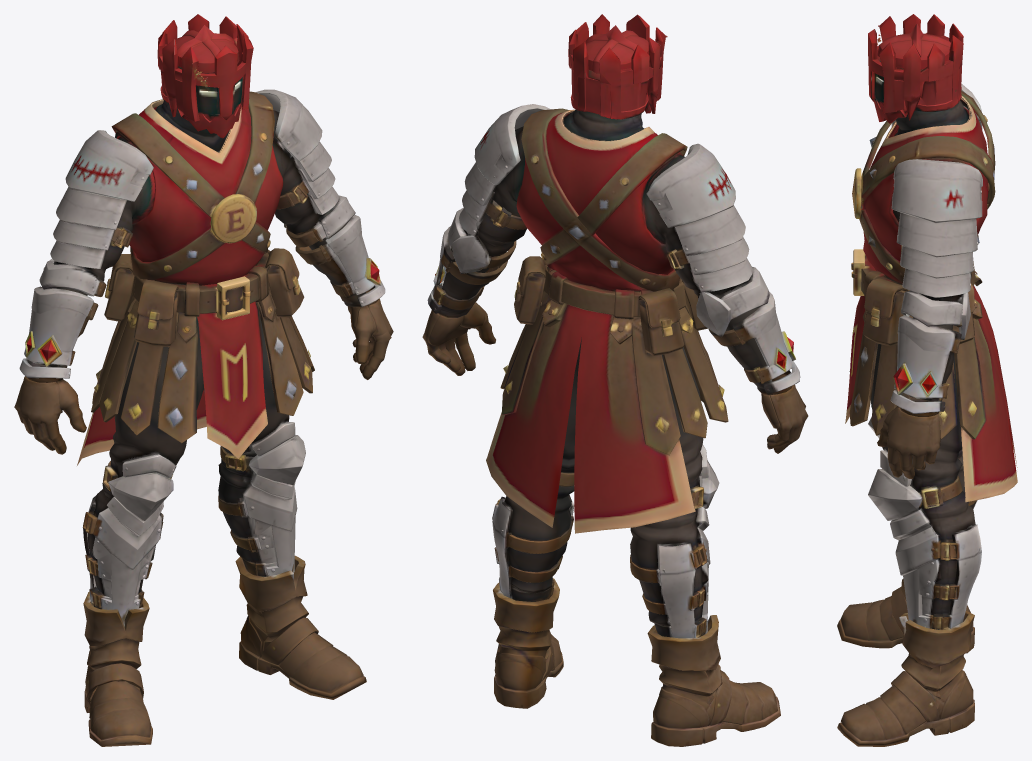
File: eromash-para-meshy-sin-armas.glb
3 views of the same model, side by side, from view 1: azimuth 30°, elevation 25°; view 2: azimuth 150°, elevation 25°; view 3: azimuth 270°, elevation 25° (orthographic). The views are drawn at different scales.
Visible parts, largest first — view 1: Eromash_sin_armas; view 2: Eromash_sin_armas; view 3: Eromash_sin_armas.
Boxes of the visible parts, x1=… form: Eromash_sin_armas: x1=14, y1=14, x2=393, y2=746; Eromash_sin_armas: x1=422, y1=14, x2=808, y2=746; Eromash_sin_armas: x1=837, y1=14, x2=1017, y2=746.
Bounding box in the file's own units: 1.06 × 1.85 × 0.4583.
Materials: 2 (1 with a texture image).
